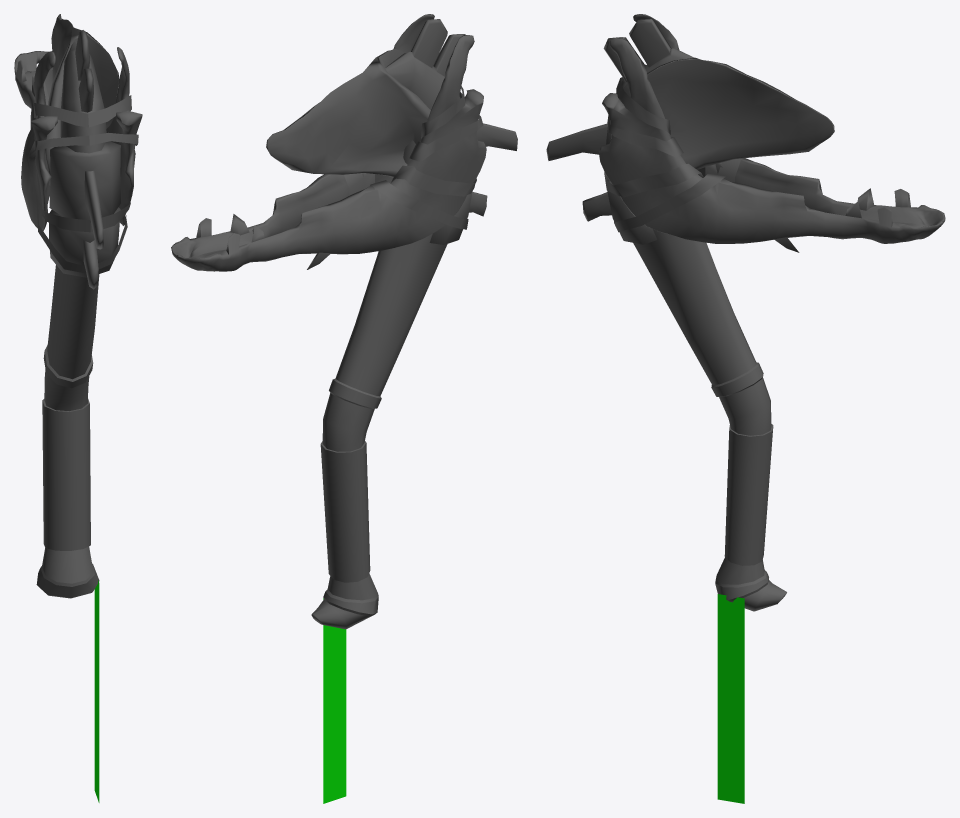
File: Weapon.fbx
3 renders of one model, left to right at view 1: azimuth 30°, elevation 25°; view 2: azimuth 150°, elevation 25°; view 3: azimuth 270°, elevation 25°, orthographic. The views are drawn at different scales.
Visible parts, largest first — view 1: Weapon, Dangle_tie; view 2: Weapon, Dangle_tie; view 3: Weapon, Dangle_tie.
Part boxes in pixels (x1=…): Weapon: x1=14, y1=14, x2=142, y2=598; Dangle_tie: x1=94, y1=580, x2=99, y2=802; Weapon: x1=171, y1=14, x2=517, y2=629; Dangle_tie: x1=323, y1=598, x2=346, y2=803; Weapon: x1=546, y1=14, x2=945, y2=611; Dangle_tie: x1=717, y1=594, x2=744, y2=803.
Bounding box in the file's own units: 1.14 × 4.9 × 2.34.
